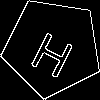H: (27, 22, 81, 80)
